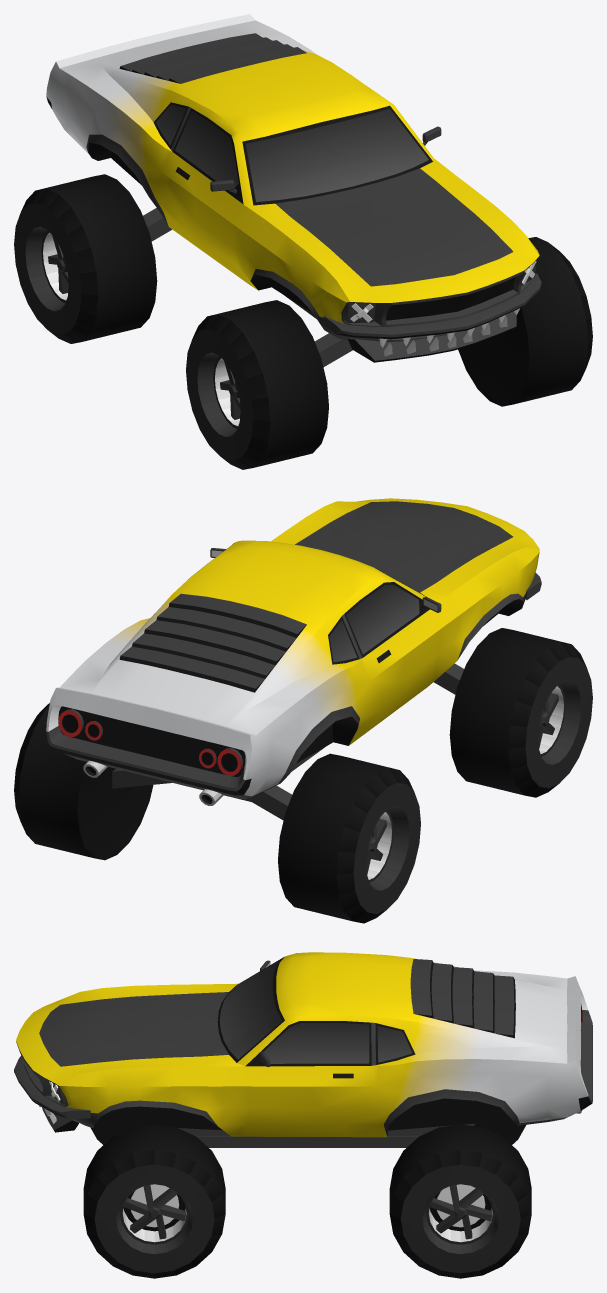
Rendered from Car_34.fbx.
3 views of the same model, one above another, from view 1: azimuth 30°, elevation 25°; view 2: azimuth 150°, elevation 25°; view 3: azimuth 270°, elevation 25° (orthographic). The views are drawn at different scales.
Visible parts, largest first — view 1: Car_34, Car_34_Tire.001, Car_34_Tire, Car_34_Tire.003; view 2: Car_34, Car_34_Tire.001, Car_34_Tire, Car_34_Tire.002; view 3: Car_34, Car_34_Tire.003, Car_34_Tire.002, Car_34_Tire, Car_34_Tire.001.
Part boxes in pixels (<box>): Car_34: <box>46,14,541,367</box>; Car_34_Tire.001: <box>186,300,328,469</box>; Car_34_Tire: <box>14,174,157,343</box>; Car_34_Tire.003: <box>458,237,592,406</box>; Car_34: <box>46,498,541,820</box>; Car_34_Tire.001: <box>449,628,592,797</box>; Car_34_Tire: <box>278,753,420,923</box>; Car_34_Tire.002: <box>14,703,153,860</box>; Car_34: <box>14,952,592,1147</box>; Car_34_Tire.003: <box>83,1124,225,1278</box>; Car_34_Tire.002: <box>389,1124,531,1278</box>; Car_34_Tire: <box>473,1120,526,1144</box>; Car_34_Tire.001: <box>90,1124,140,1144</box>.
Bounding box in the file's own units: 3.28 × 2.39 × 5.42.
